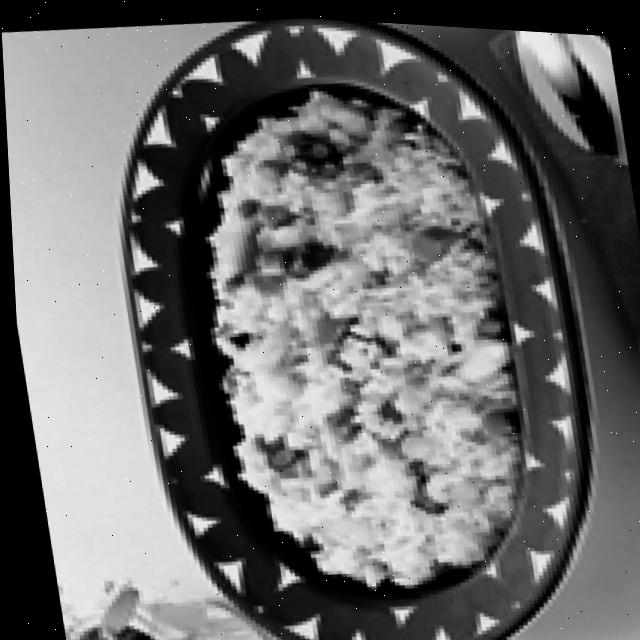米饭主食: (66, 3, 632, 640)
